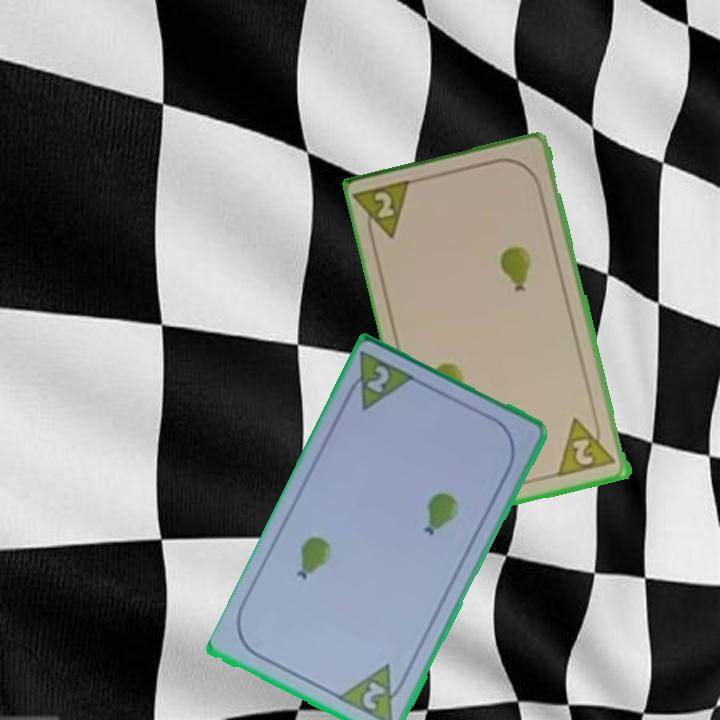2p: (340, 348, 420, 415), (353, 176, 418, 248), (556, 410, 619, 480), (359, 678, 390, 714)
